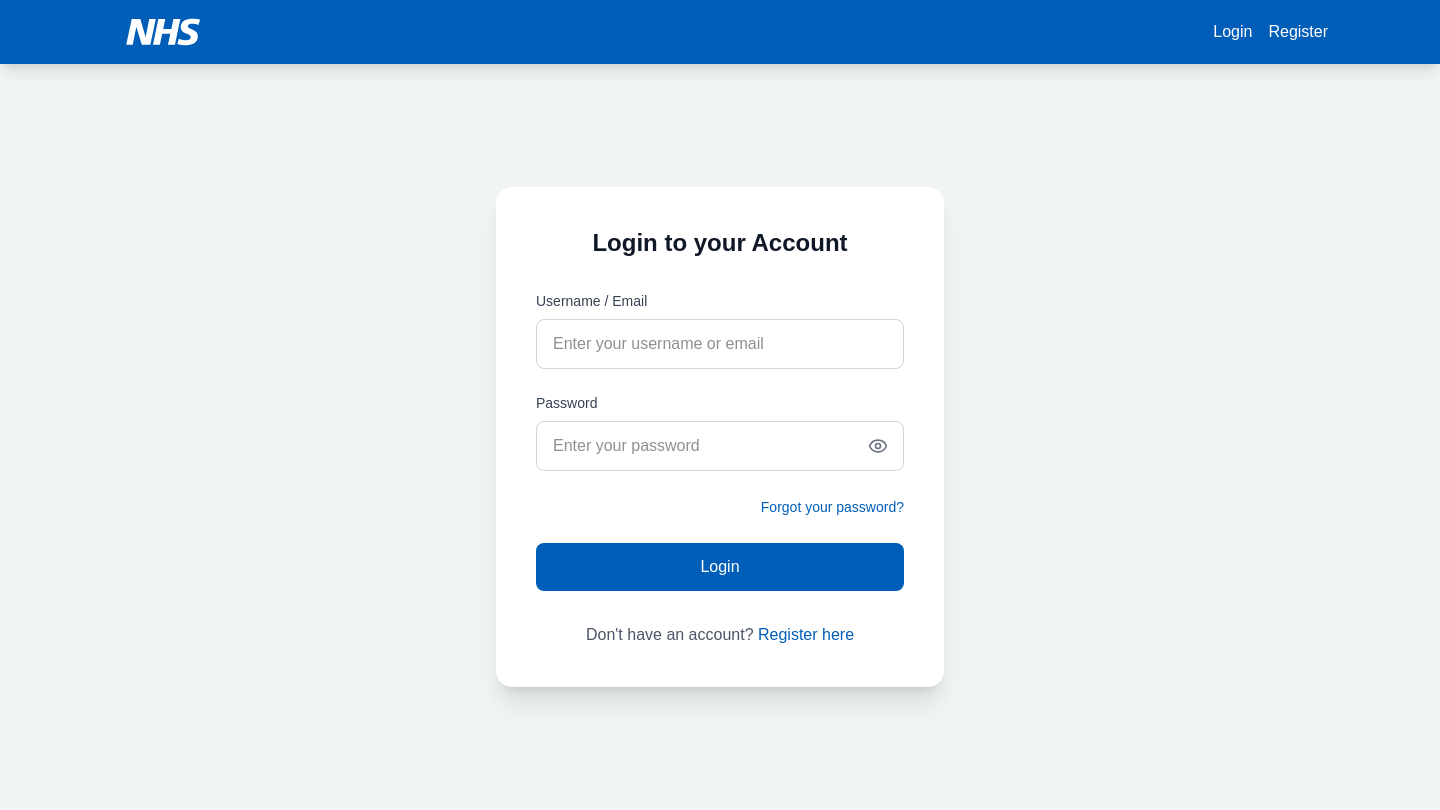
Test: LoginPage › shows error message on login failure
Expected: the button "Login" is shown, [536, 543, 904, 591]
In the field labelled "Username / Email": [720, 344] box [536, 319, 904, 369], type "bad@example.com"
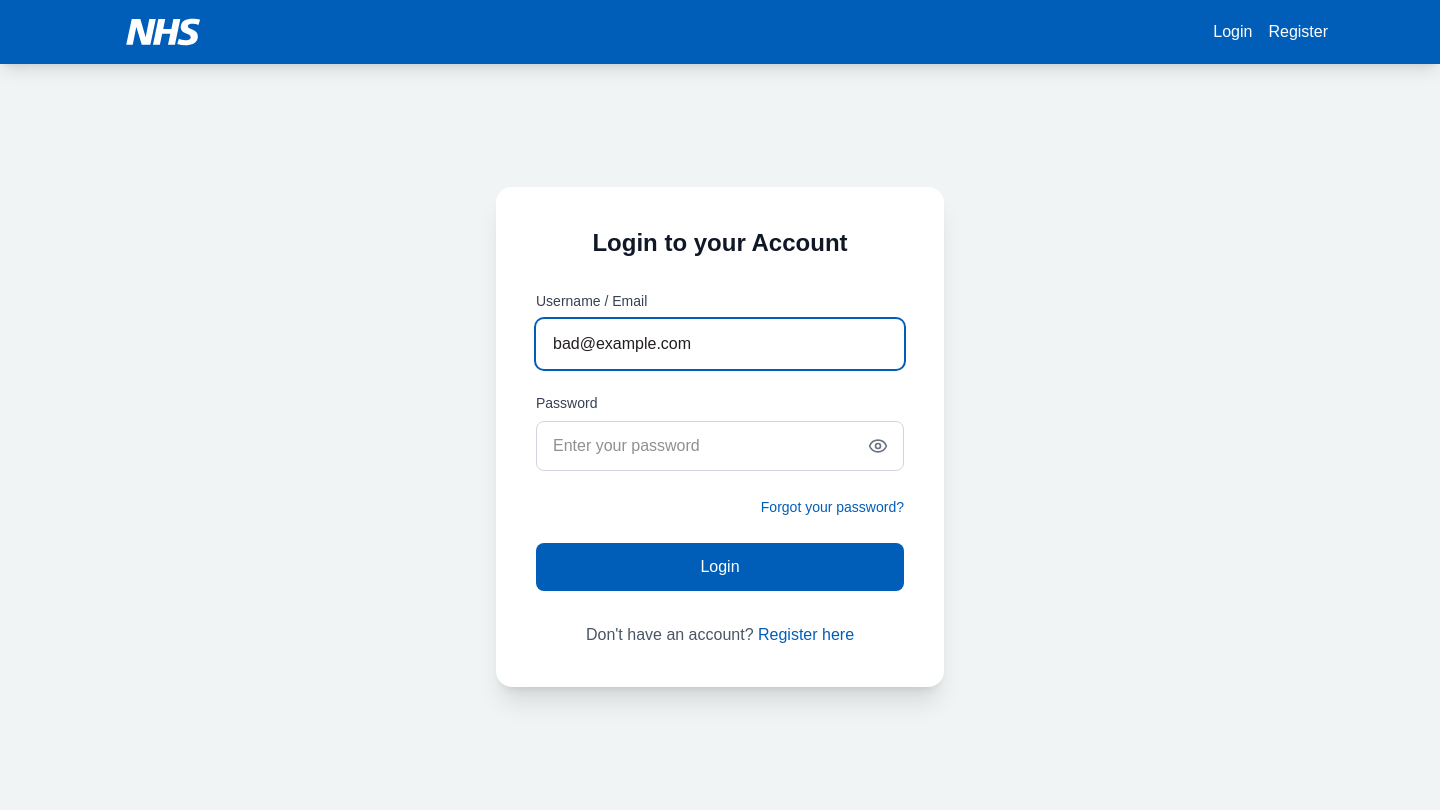
In the password field labelled "Password": [720, 446] box [536, 421, 904, 471], type "wrong"
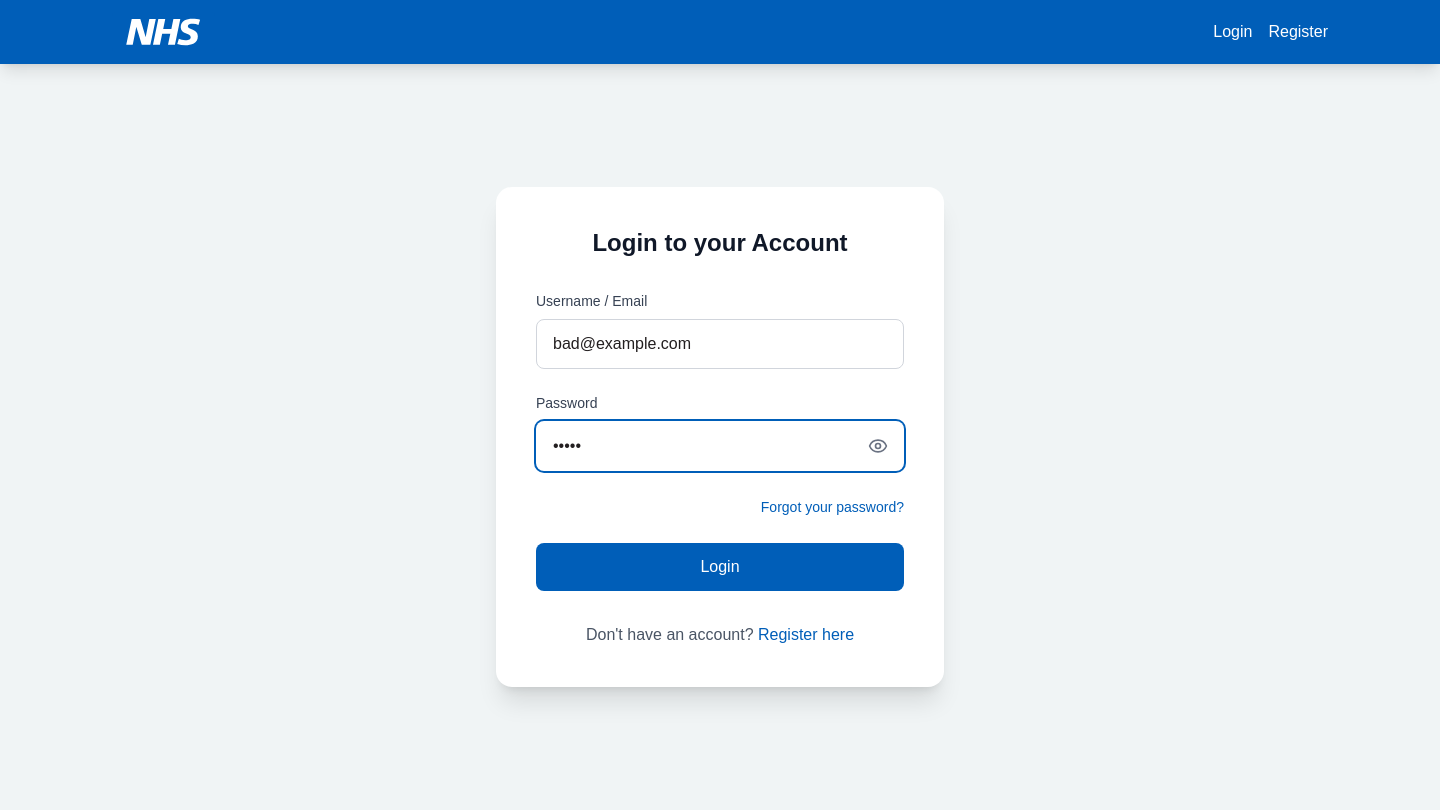
Click the button "Login": [720, 567] box [536, 543, 904, 591]
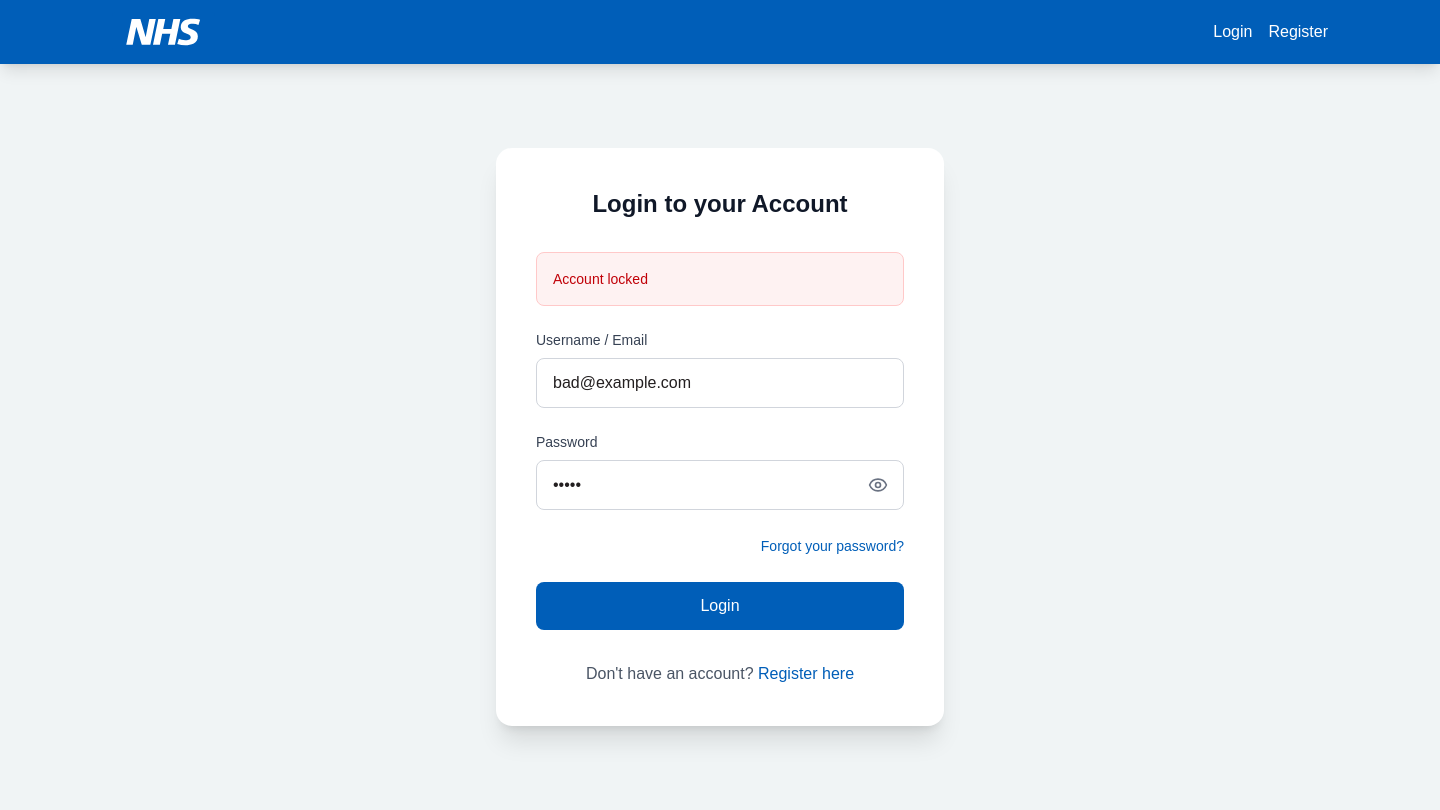
Expected: the text "Account locked" is shown, [536, 252, 904, 306]
